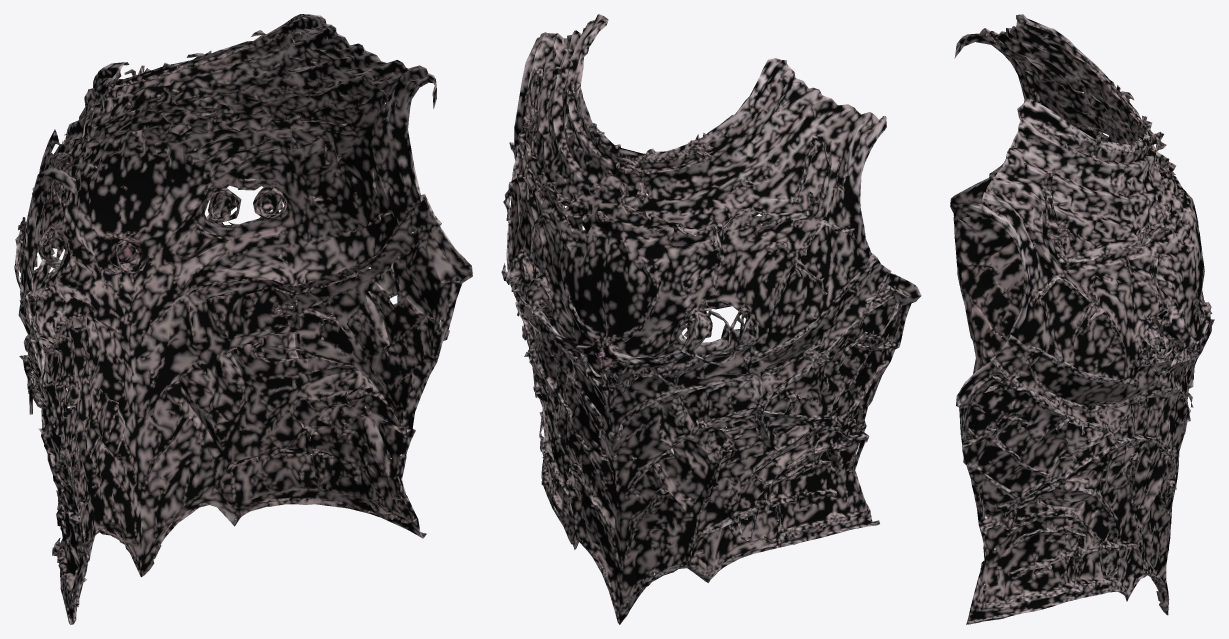
Rendered from vampire_chestplate_LOD0.glb.
3 views of the same model, side by side, from view 1: azimuth 30°, elevation 25°; view 2: azimuth 150°, elevation 25°; view 3: azimuth 270°, elevation 25° (orthographic). The views are drawn at different scales.
Parts seen in each view (by area): view 1: vampire_chestplate_LOD0; view 2: vampire_chestplate_LOD0; view 3: vampire_chestplate_LOD0.
Boxes of the visible parts, x1,y1,x2,y2 form: vampire_chestplate_LOD0: (14,14,472,624); vampire_chestplate_LOD0: (501,14,921,624); vampire_chestplate_LOD0: (950,14,1214,624).
Bounding box in the file's own units: 0.5929 × 0.7733 × 0.3327.
Materials: 1 (1 with a texture image).
